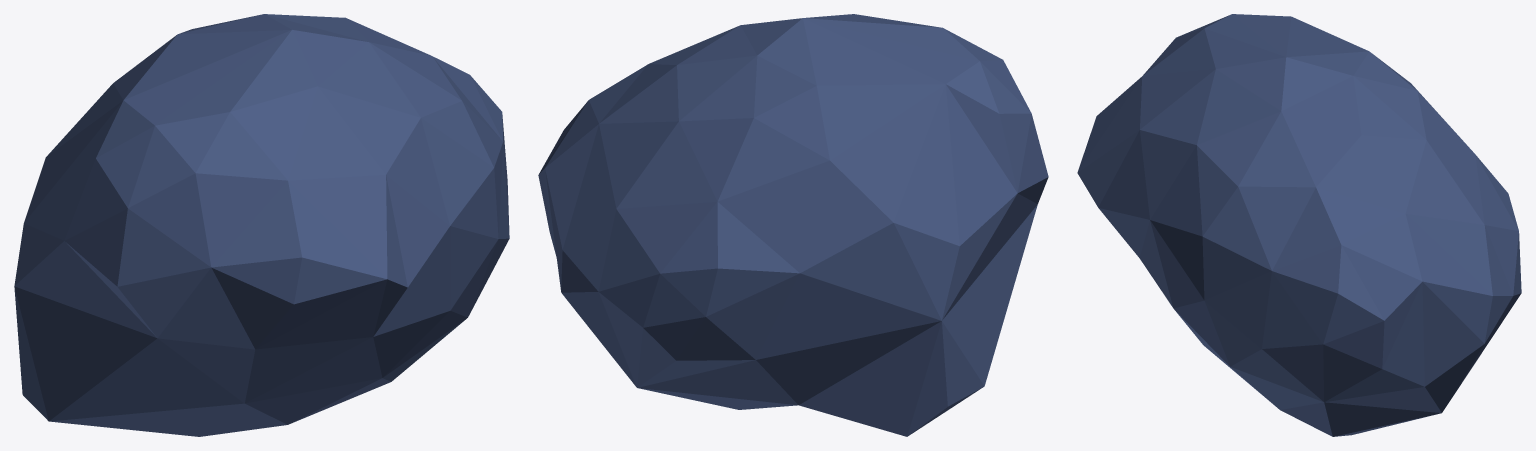
Rendered from Model_393_RH__Medial_pretectal_area_(MPT).obj.
3 renders of one model, left to right at view 1: azimuth 30°, elevation 25°; view 2: azimuth 150°, elevation 25°; view 3: azimuth 270°, elevation 25°, orthographic. The views are drawn at different scales.
Size of the model in its own units: 0.4133 by 0.3345 by 0.3952.
